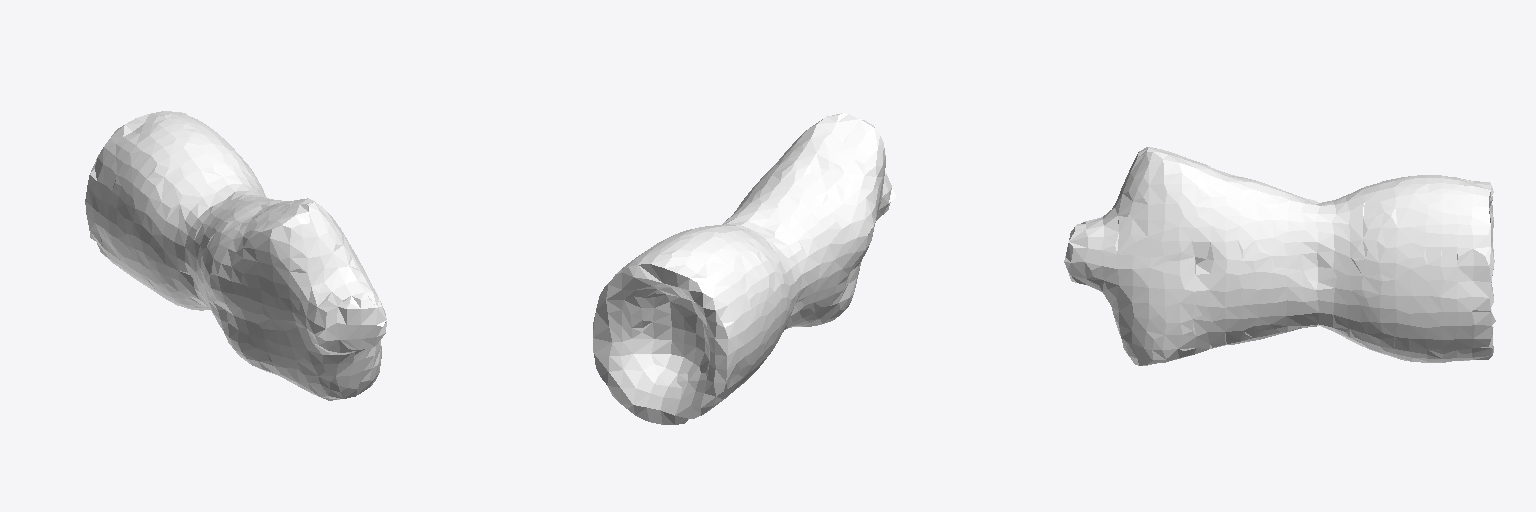
Rendered from mannequin4.obj.
The picture shows the model from 3 angles: view 1: azimuth 30°, elevation 25°; view 2: azimuth 150°, elevation 25°; view 3: azimuth 270°, elevation 25°; orthographic projection.
Bounding box in the file's own units: 0.2903 × 0.3736 × 0.7395.